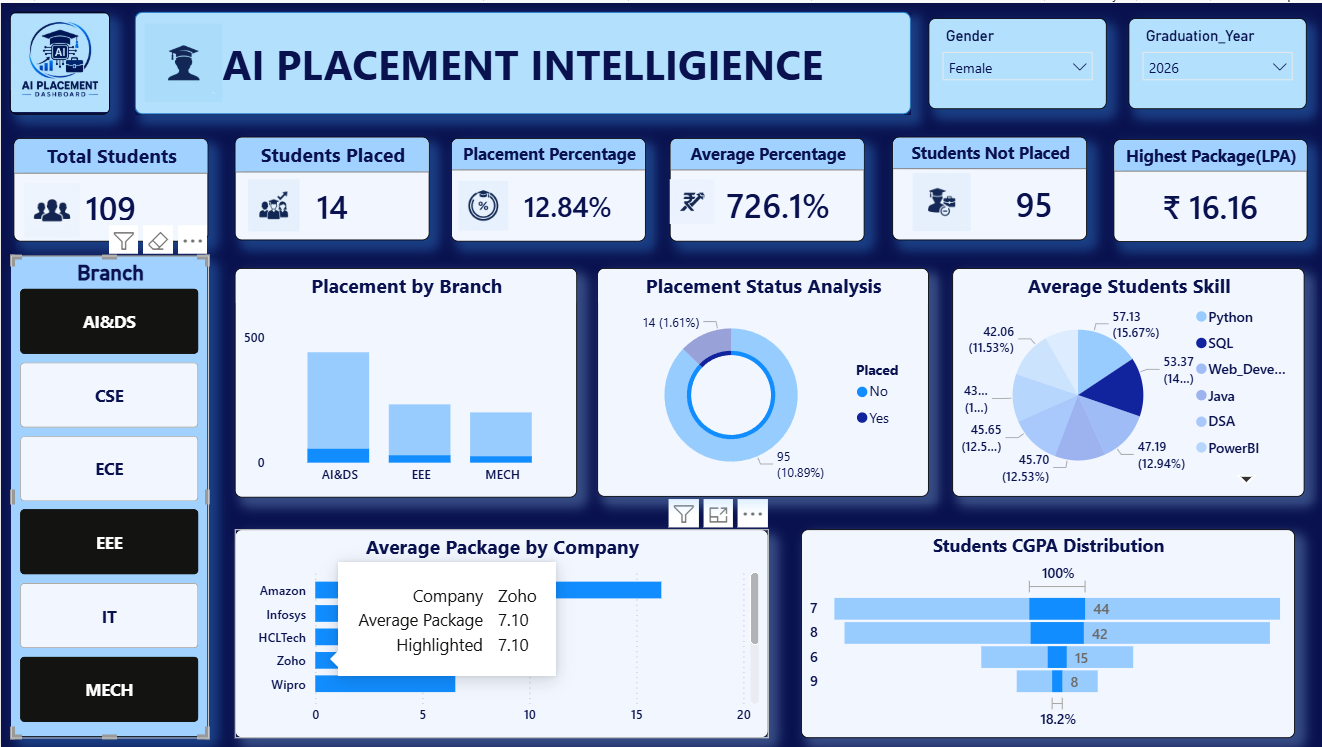

This screenshot's page, from the dashboard's own definition file:
{"tool":"powerbi","page":{"name":"Page 1","canvas":[1280,720],"ordinal":0},"visuals":[{"type":"image","box":[8.9,8.9,96.8,99.1],"z":0},{"type":"shape","box":[129.1,8.9,749.2,99.1],"z":1000},{"type":"image","box":[138.4,18.6,75.6,79.1],"z":2000},{"type":"advancedSlicerVisual","fields":{"Values":["Sheet1.Branch"]},"box":[9.3,244.2,190.7,465.1],"z":3000},{"type":"slicer","fields":{"Values":["Sheet1.Graduation_Year"]},"box":[1088.4,14,172.1,88.4],"z":4000},{"type":"slicer","fields":{"Values":["Sheet1.Gender"]},"box":[895.4,14,172.1,88.4],"z":5000},{"type":"cardVisual","title":"Total Students","fields":{"Data":["Sheet1.Total Students"]},"box":[11.6,130.2,188.4,100],"z":6000},{"type":"image","box":[30.2,170.9,53.5,58.1],"z":7000},{"type":"cardVisual","title":"Students Placed","fields":{"Data":["Sheet1.Students Placed"]},"box":[225.6,129.1,188.4,100],"z":8000},{"type":"image","box":[234.9,169.8,55.8,50],"z":9000},{"type":"cardVisual","title":"Placement Percentage","fields":{"Data":["Sheet1.Placement Percentage"]},"box":[433.7,130.2,188.4,100],"z":10000},{"type":"image","box":[441.9,169.8,47.7,51.2],"z":11000},{"type":"cardVisual","title":"Average Percentage","fields":{"Data":["Sheet1.Average Package"]},"box":[645.4,130.2,188.4,100],"z":12000},{"type":"cardVisual","title":"Highest Package(LPA)","fields":{"Data":["Sheet1.Highest Package"]},"box":[1073.3,131.4,187.2,98.8],"z":13000},{"type":"image","box":[653.5,169.8,48.8,50],"z":14000},{"type":"cardVisual","title":"Students Not Placed ","fields":{"Data":["Sheet1.Students Not Placed"]},"box":[860.5,129.1,188.4,100],"z":15000},{"type":"image","box":[877.9,164,59.3,55.8],"z":16000},{"type":"clusteredBarChart","fields":{"Category":["Sheet1.Company"],"Y":["Sheet1.Average Package"]},"box":[225.6,507.9,515.2,201.5],"z":17000},{"type":"donutChart","title":" Placement Status Analysis","fields":{"Category":["Sheet1.Placed"],"Y":["CountNonNull(Sheet1.Student_ID)"]},"box":[575.5,255.8,319.7,220.8],"z":18000},{"type":"clusteredColumnChart","title":"Placement by Branch","fields":{"Category":["Sheet1.Branch"],"Y":["CountNonNull(Sheet1.Student_ID)"]},"box":[225.6,255.8,330.6,222],"z":19000},{"type":"funnel","title":"Students CGPA Distribution","fields":{"Category":["Sheet1.CGPA (bins)"],"Y":["CountNonNull(Sheet1.Student_ID)"]},"box":[772.1,507.9,476.5,201.5],"z":20000},{"type":"pieChart","title":"Average Students Skill ","fields":{"Category":["Sheet1.Skill"],"Y":["Avg(Sheet1.Skill Score)"]},"box":[918.1,255.8,340.2,220.8],"z":20001}]}

Visuals, with their boxes in screenshot pixels (x1, y1, x2, y2), scaled from the page's 1280x720 canvas onto the 1322x747 screenshot:
image: <bbox>9, 9, 109, 112</bbox>
shape: <bbox>133, 9, 907, 112</bbox>
image: <bbox>143, 19, 221, 101</bbox>
advancedSlicerVisual - Sheet1.Branch: <bbox>10, 253, 207, 736</bbox>
slicer - Sheet1.Graduation_Year: <bbox>1124, 15, 1302, 106</bbox>
slicer - Sheet1.Gender: <bbox>925, 15, 1103, 106</bbox>
"Total Students" cardVisual: <bbox>12, 135, 207, 239</bbox>
image: <bbox>31, 177, 86, 238</bbox>
"Students Placed" cardVisual: <bbox>233, 134, 428, 238</bbox>
image: <bbox>243, 176, 300, 228</bbox>
"Placement Percentage" cardVisual: <bbox>448, 135, 643, 239</bbox>
image: <bbox>456, 176, 506, 229</bbox>
"Average Percentage" cardVisual: <bbox>667, 135, 861, 239</bbox>
"Highest Package(LPA)" cardVisual: <bbox>1109, 136, 1302, 239</bbox>
image: <bbox>675, 176, 725, 228</bbox>
"Students Not Placed " cardVisual: <bbox>889, 134, 1083, 238</bbox>
image: <bbox>907, 170, 968, 228</bbox>
clusteredBarChart - Sheet1.Company x Sheet1.Average Package: <bbox>233, 527, 765, 736</bbox>
" Placement Status Analysis" donutChart: <bbox>594, 265, 925, 494</bbox>
"Placement by Branch" clusteredColumnChart: <bbox>233, 265, 574, 496</bbox>
"Students CGPA Distribution" funnel: <bbox>797, 527, 1290, 736</bbox>
"Average Students Skill " pieChart: <bbox>948, 265, 1300, 494</bbox>
